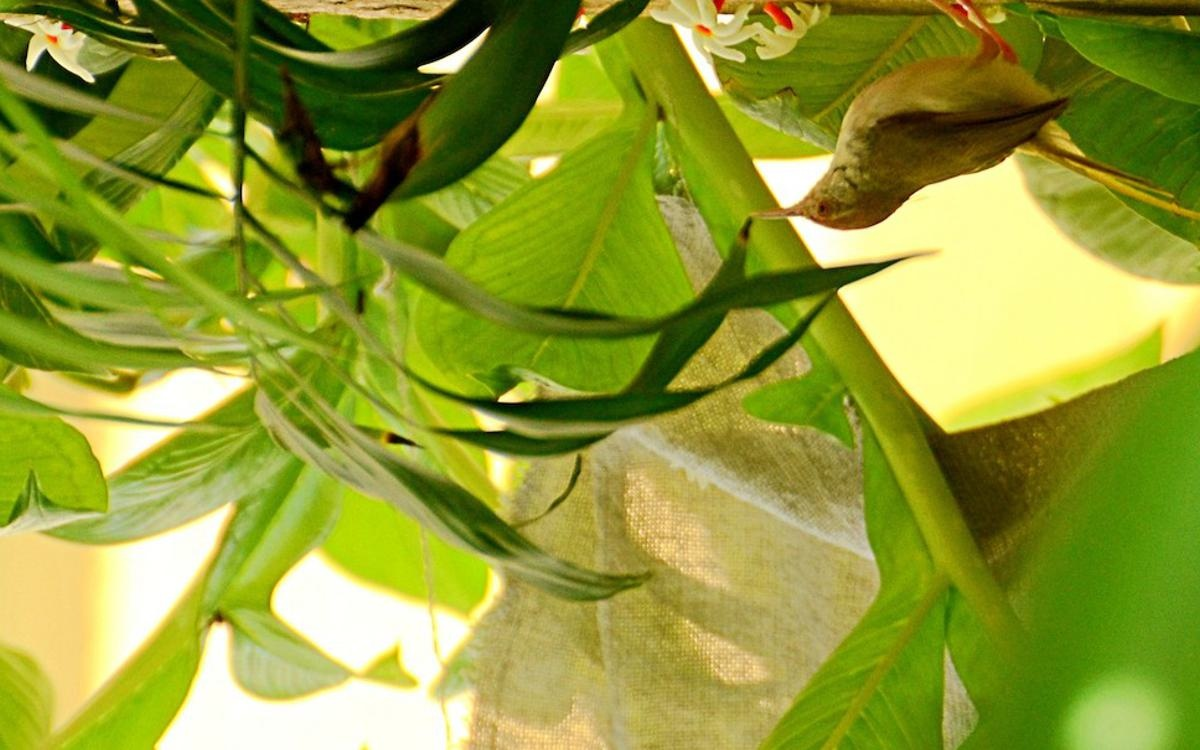tailorbird: (736, 13, 1143, 240)
